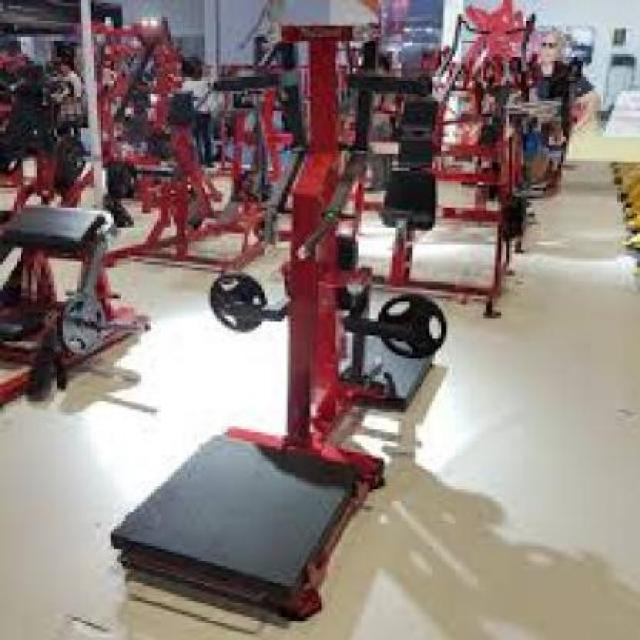lateral raises machine: (213, 20, 444, 598)
